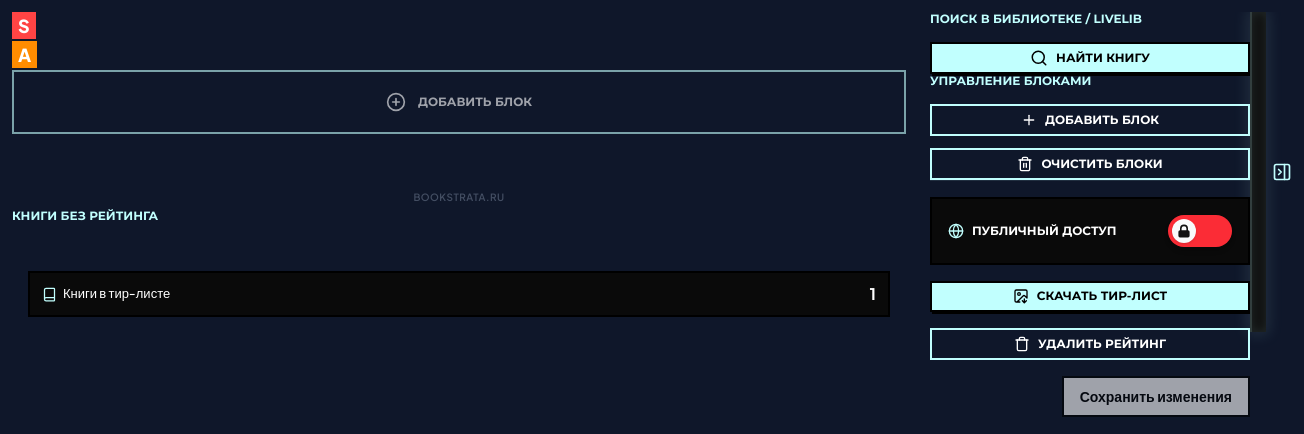
Test: EditorMainContent — sidebarCollapsed › переключает collapsed по клику на кнопку
The width and height of the screenshot is (1304, 434).
Note: Клик — сворачиваем
Step 1. Click the button titled "Скрыть боковую панель" → (1271, 172), box left=1250, top=12, right=1292, bottom=332
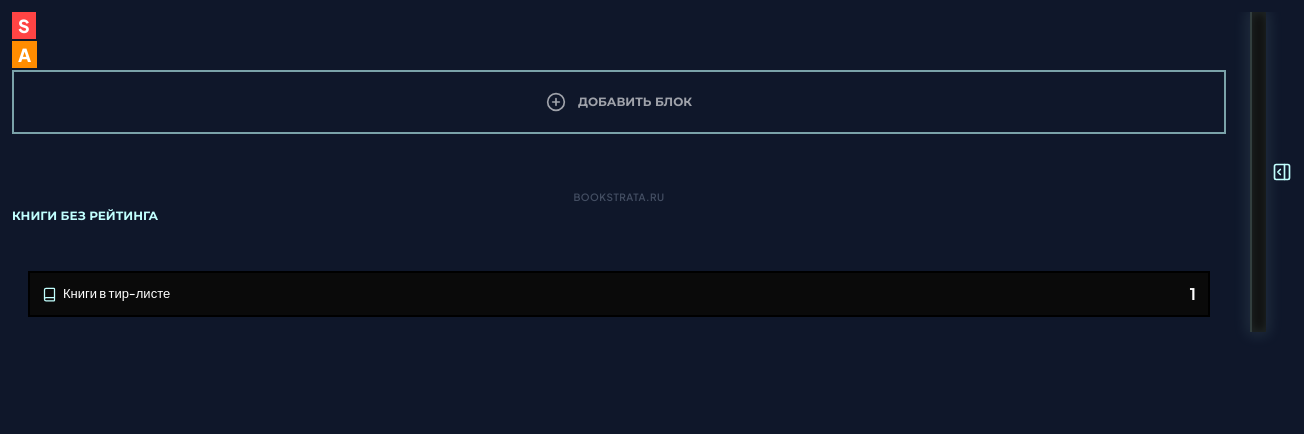
Check: the button titled "Показать боковую панель" is shown
Note: Клик — разворачиваем
Step 2. Click the button titled "Показать боковую панель" → (1271, 172), box left=1250, top=12, right=1292, bottom=332
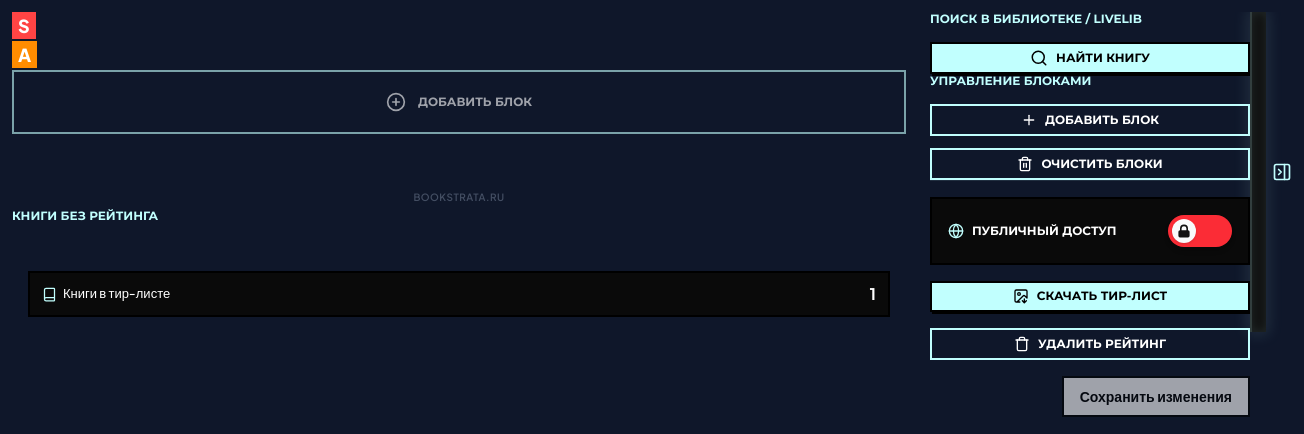
Check: the button titled "Скрыть боковую панель" is shown, box left=1250, top=12, right=1292, bottom=332
